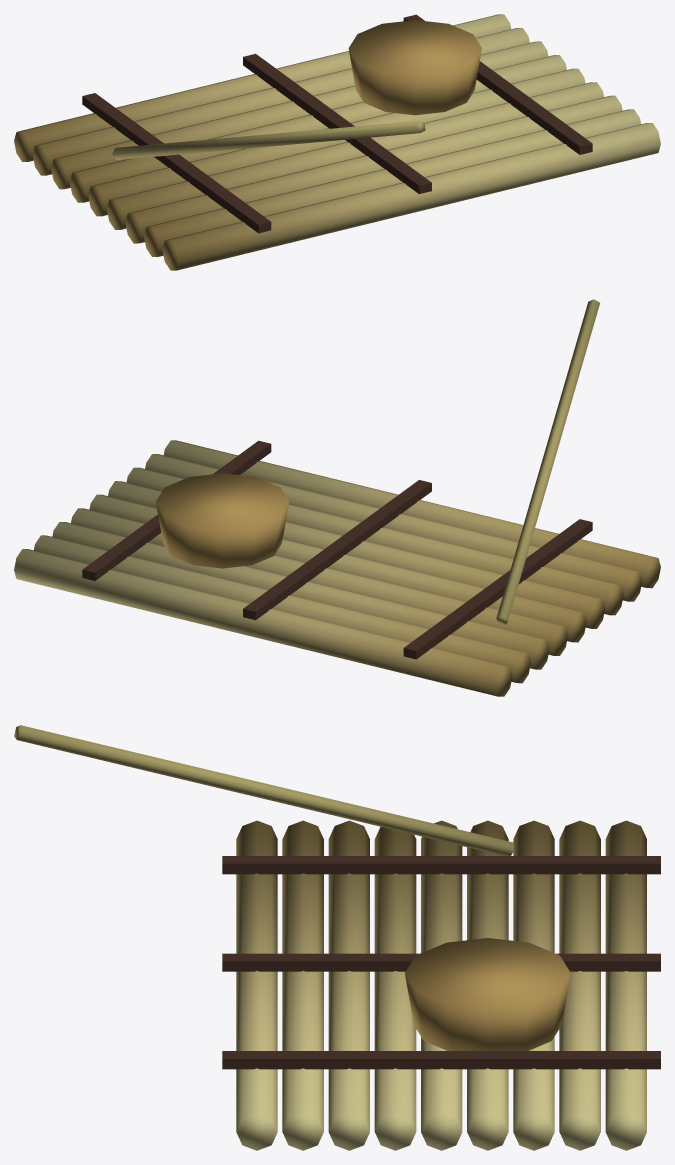
The model's file is bamboo_raft.glb.
3 renders of one model, top to bottom at view 1: azimuth 30°, elevation 25°; view 2: azimuth 150°, elevation 25°; view 3: azimuth 270°, elevation 25°, orthographic. The views are drawn at different scales.
Visible parts, largest first — view 1: Raft; view 2: Raft; view 3: Raft.
Part boxes in pixels (x1=…): Raft: x1=14, y1=14, x2=660, y2=270; Raft: x1=14, y1=299, x2=660, y2=696; Raft: x1=14, y1=725, x2=660, y2=1150.
Bounding box in the file's own units: 3 × 1.08 × 2.8.
